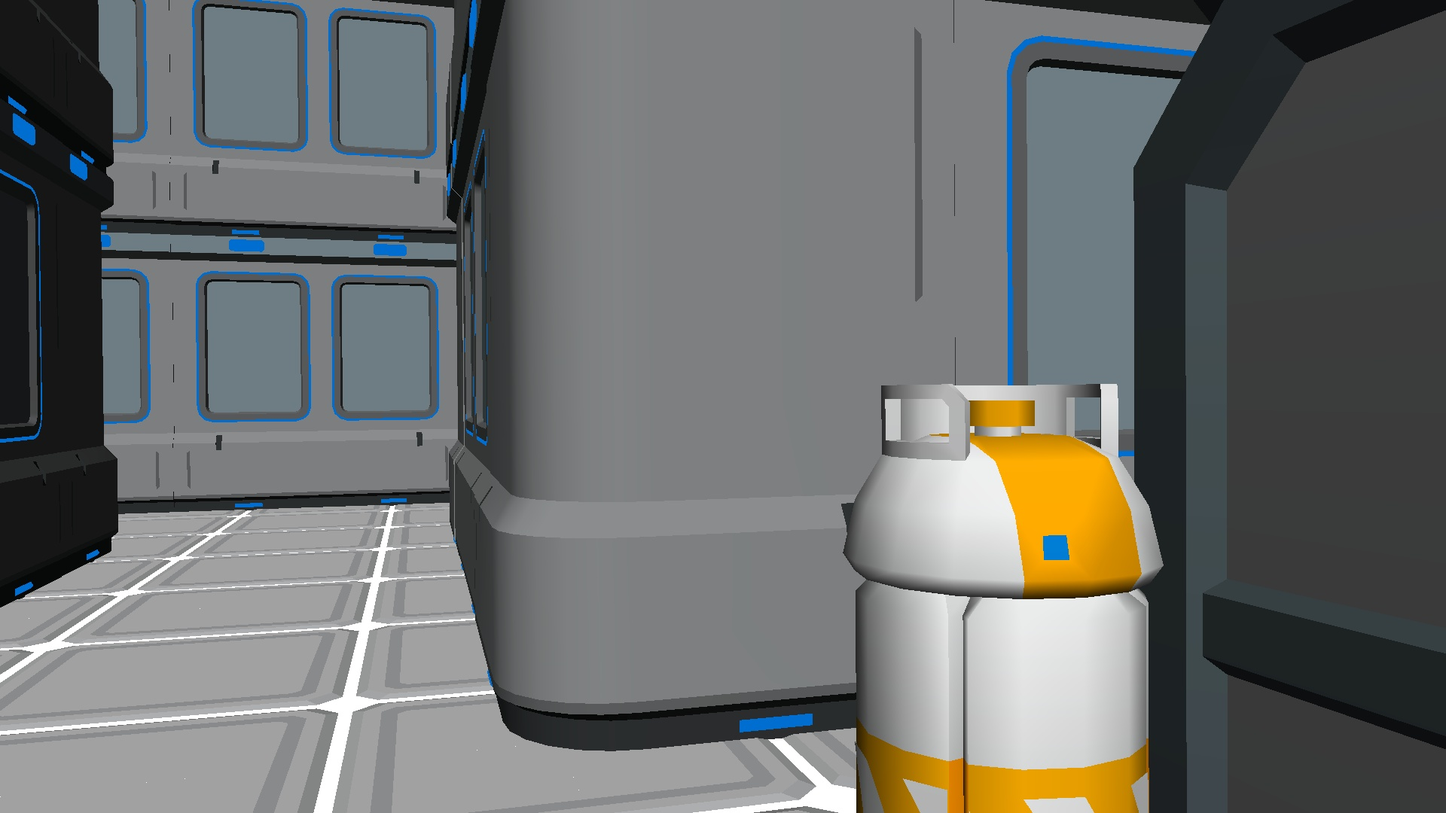yellow barrel: (843, 384, 1166, 813)
